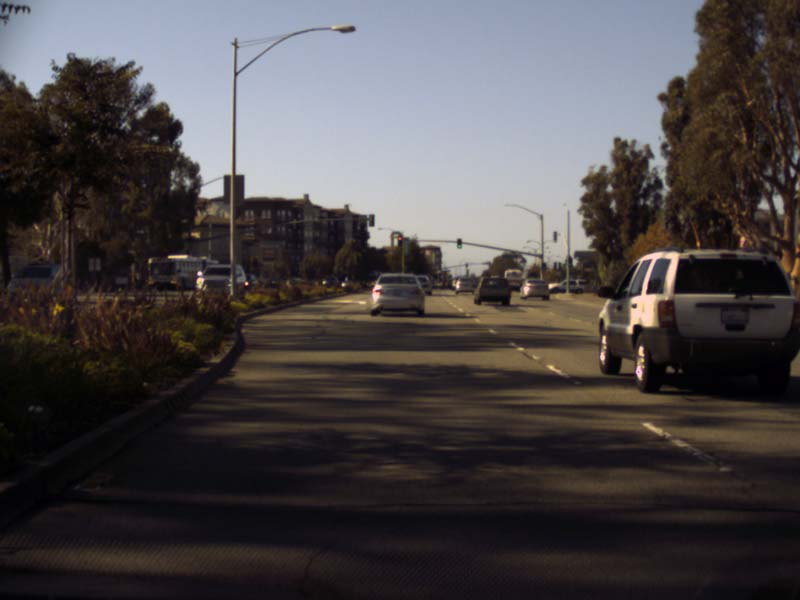Green: (457, 238, 461, 248), (541, 261, 545, 269)
Red: (398, 236, 401, 246)
